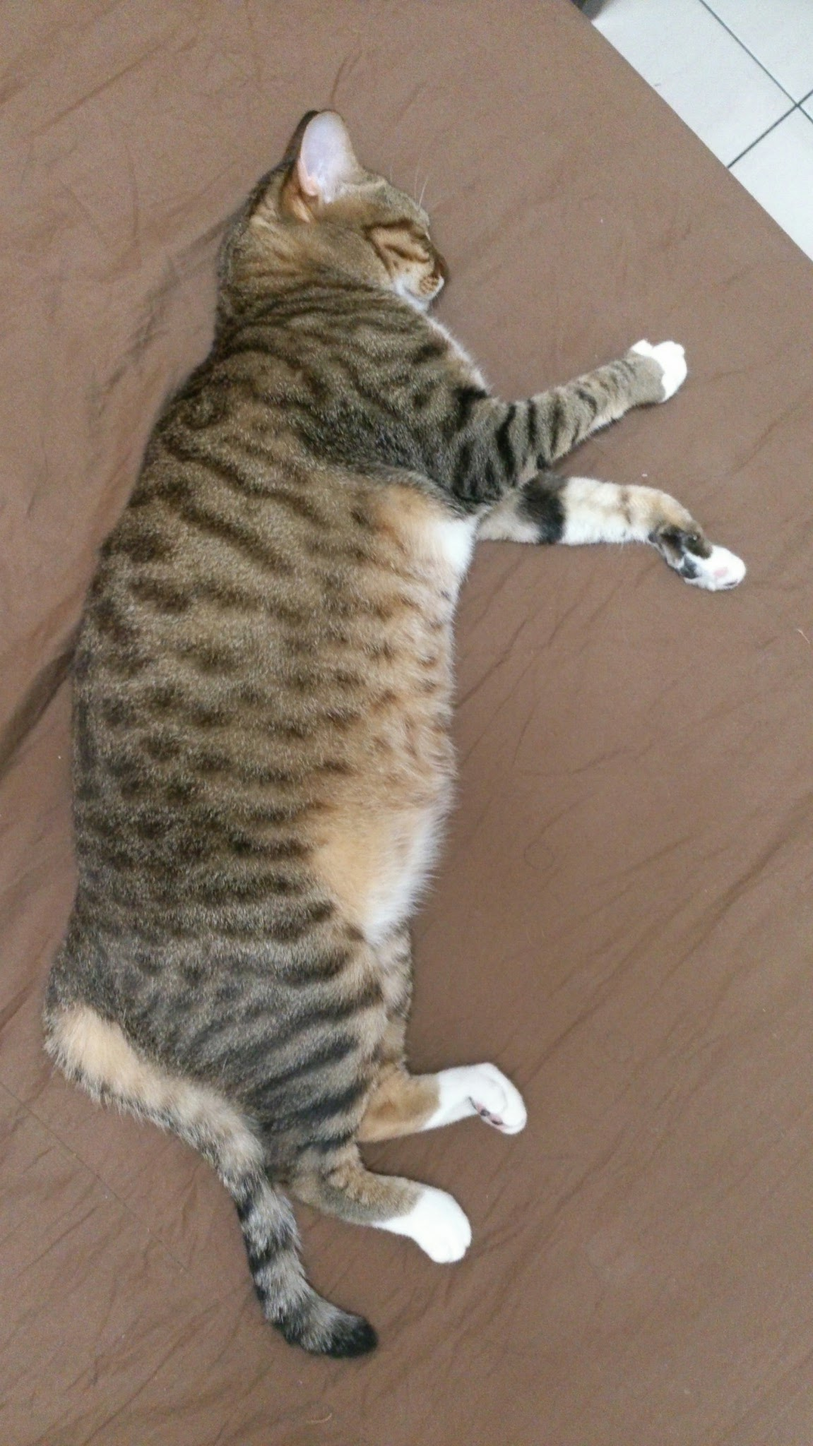cat: (40, 106, 750, 1359)
